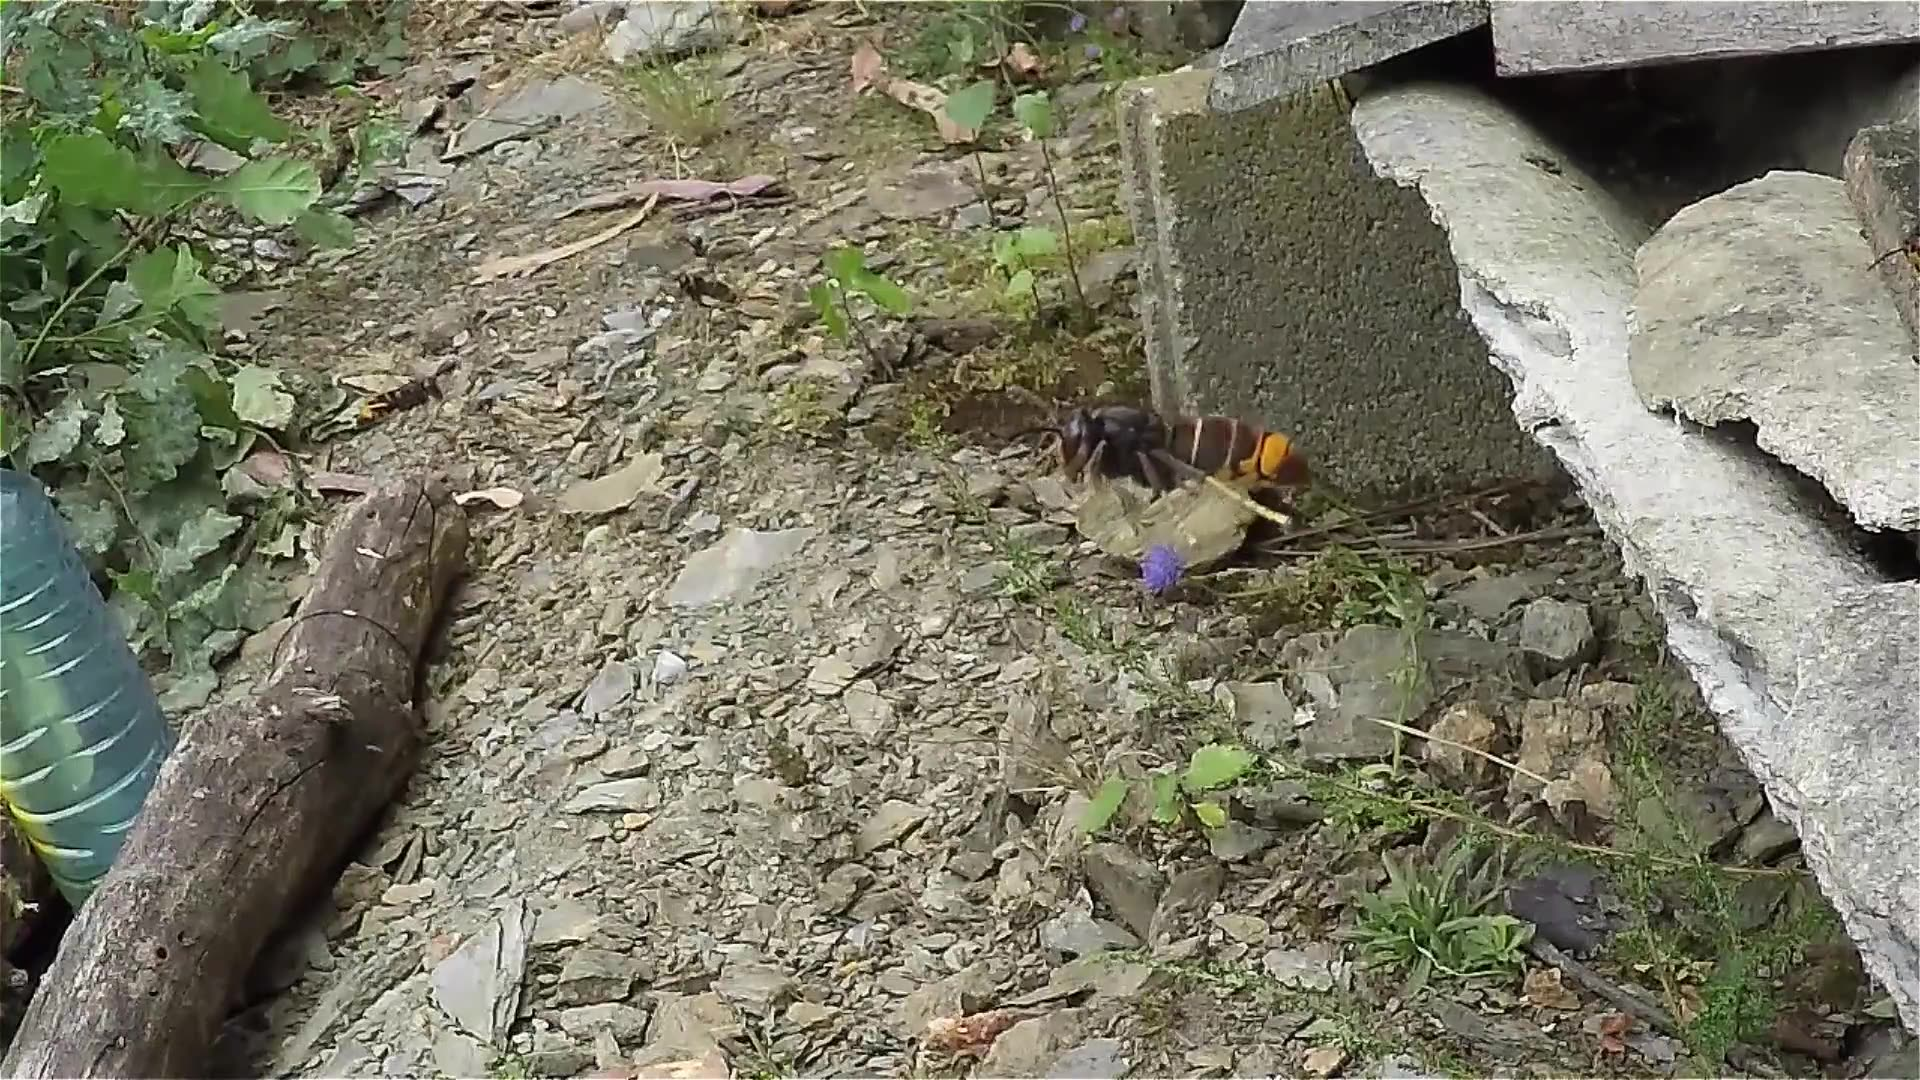hornet: (1065, 386, 1328, 525), (356, 368, 454, 425), (658, 265, 752, 319)
